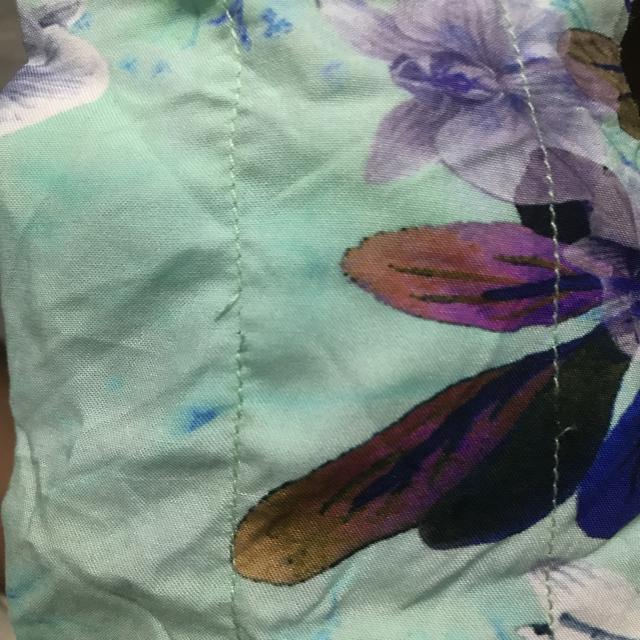broken: (203, 277, 266, 352)
good: (214, 172, 254, 255)
